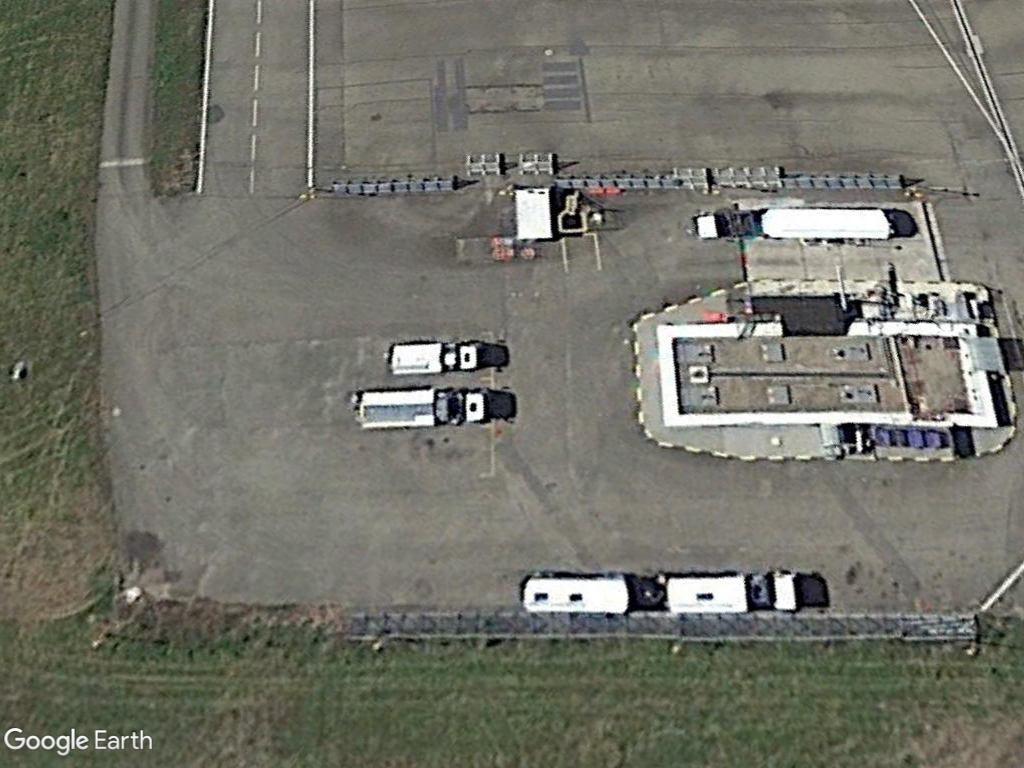truck: (663, 561, 827, 619), (347, 384, 517, 434), (688, 205, 900, 245), (514, 567, 667, 616), (381, 334, 516, 380)
